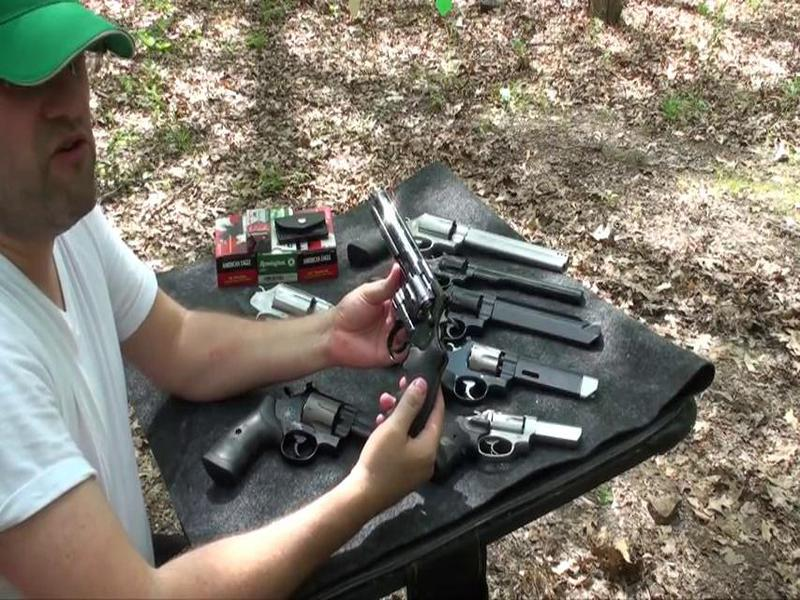Revolver: (345, 178, 462, 426)
